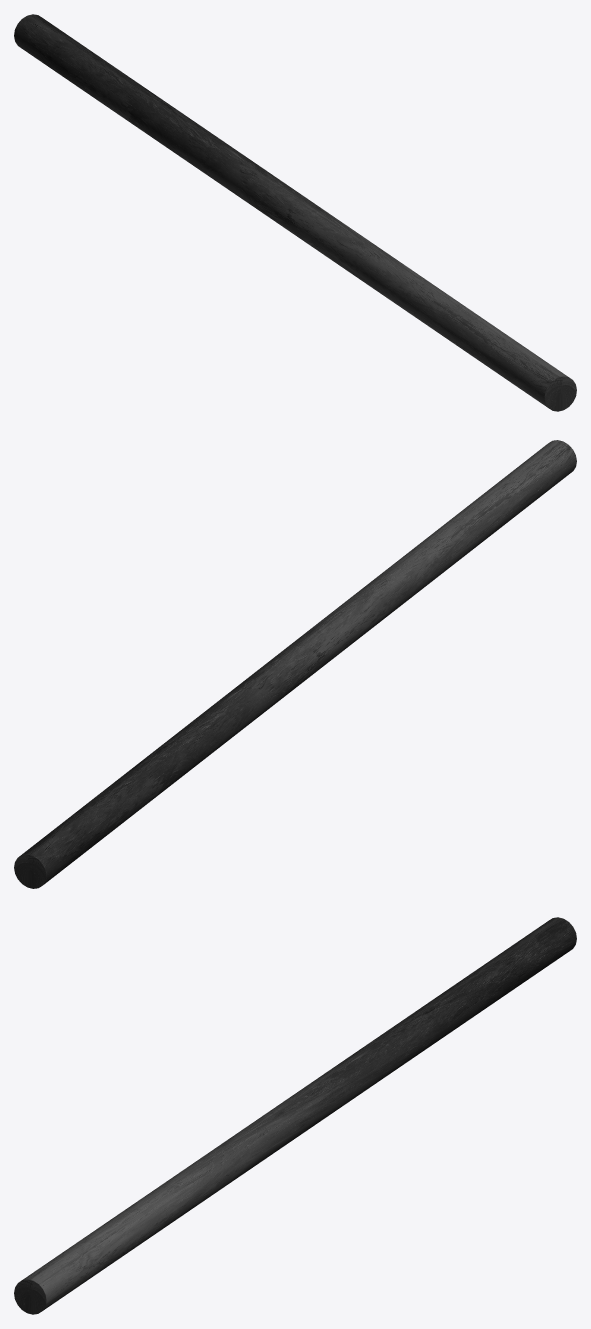
The model's file is noir14.FBX.
3 renders of one model, top to bottom at view 1: azimuth 30°, elevation 25°; view 2: azimuth 150°, elevation 25°; view 3: azimuth 330°, elevation 25°, orthographic.
Visible parts, largest first — view 1: Cylindre003; view 2: Cylindre003; view 3: Cylindre003.
Part boxes in pixels (left/top/right/bottom): Cylindre003: left=14, top=14, right=576, bottom=411; Cylindre003: left=14, top=440, right=576, bottom=888; Cylindre003: left=14, top=917, right=576, bottom=1314.
Bounding box in the file's own units: 0.4347 × 0.7618 × 12.3.
Materials: 1 (1 with a texture image).
